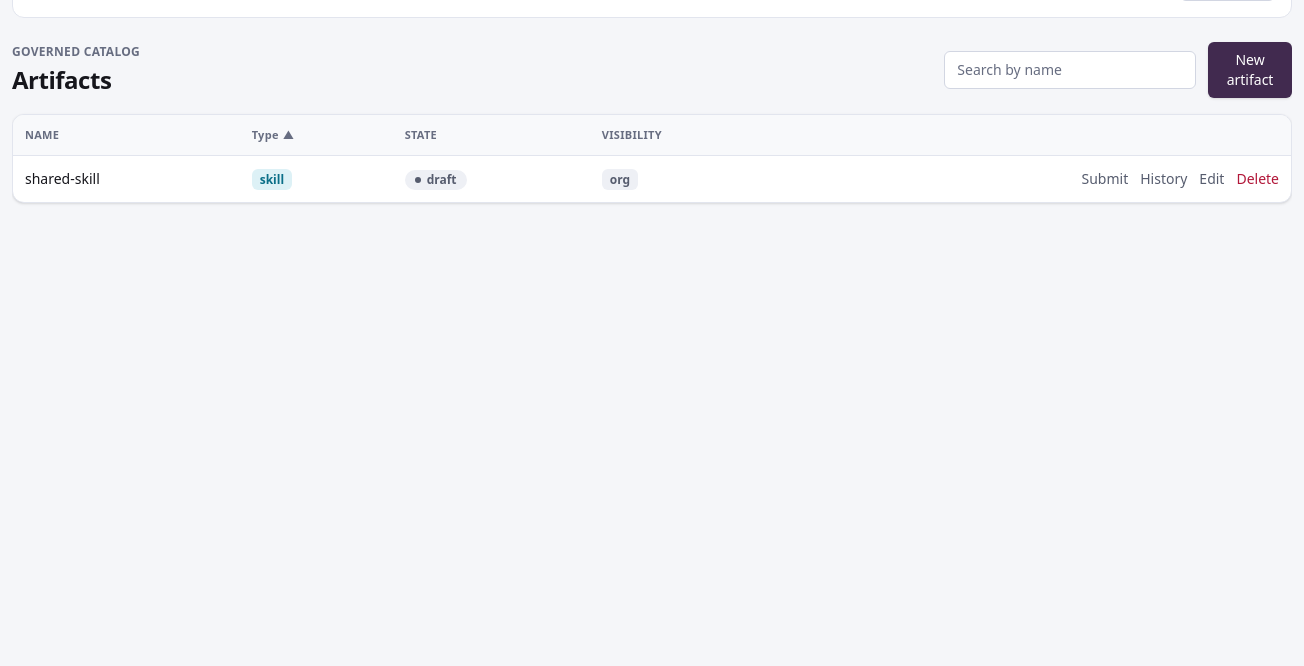
Test: the revived count is the server's, not the length of the role list it sent
Click the button with aria-label "edit shared-skill" at [1212, 179], box [1199, 169, 1224, 189]
(page scrolled)
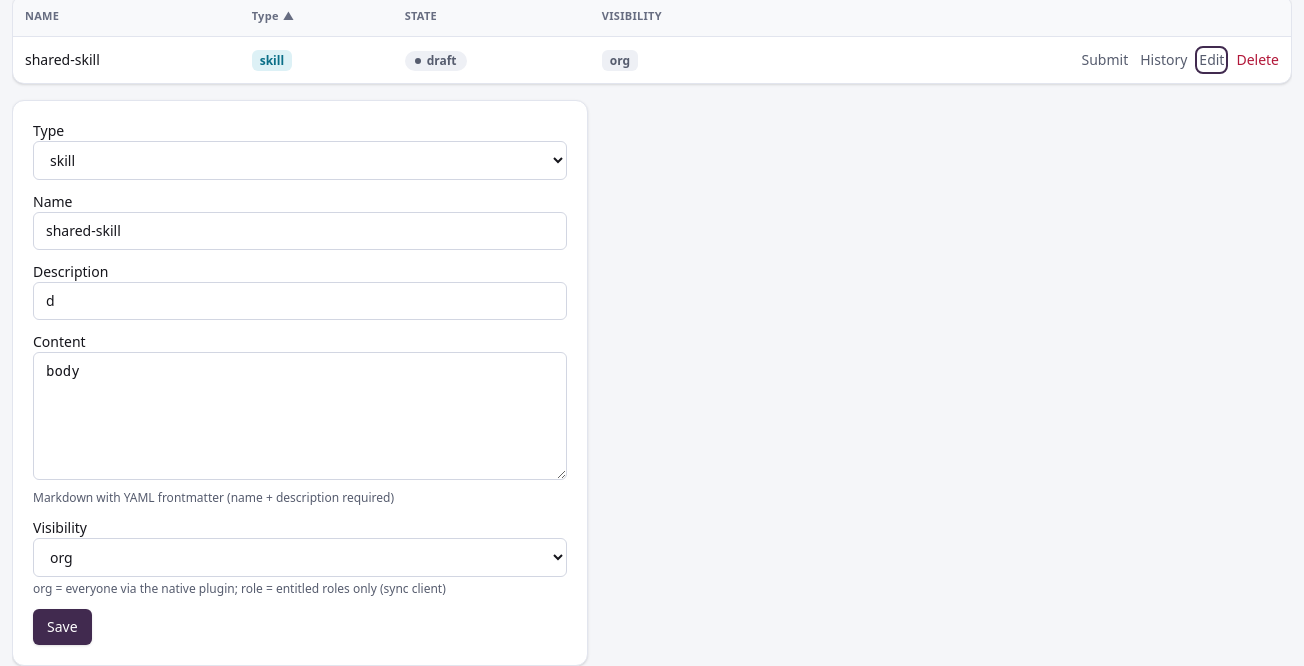
Select "role" in the dropdown labelled "Visibility" at [300, 557], box [33, 538, 567, 577]
(page scrolled)
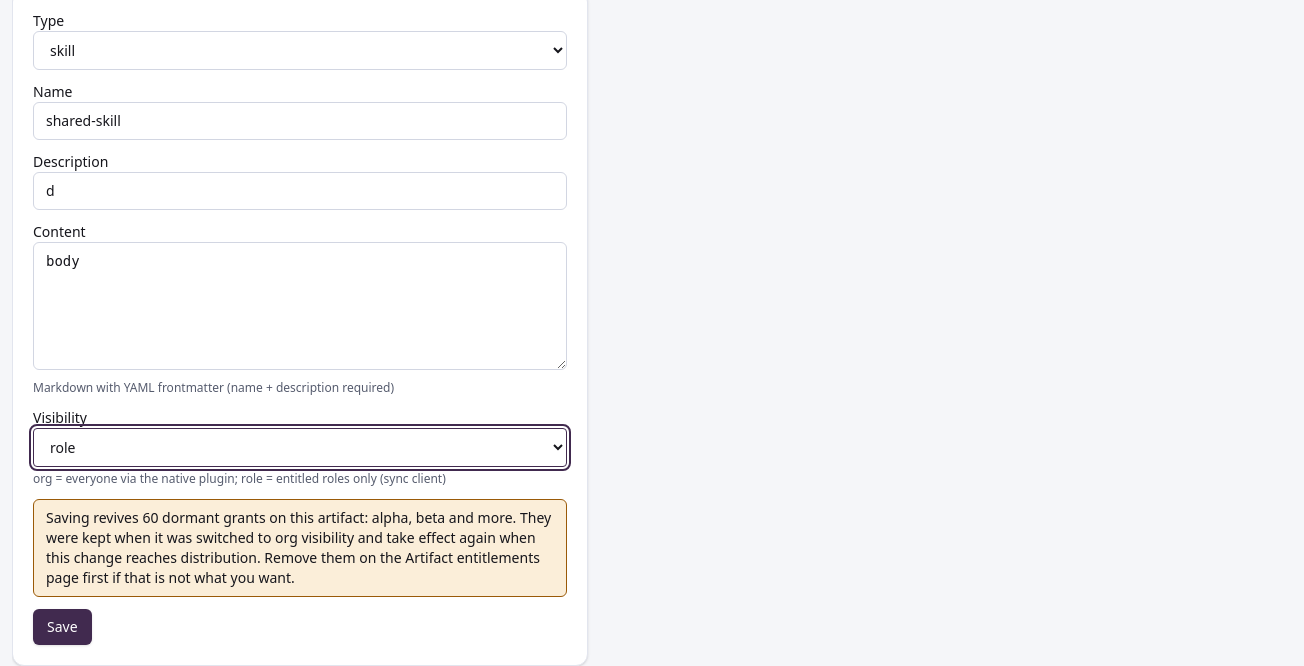
Result: the message shows "60 dormant grants" at [33, 499, 567, 597]
Result: the message shows "and more" at [445, 508, 513, 527]
